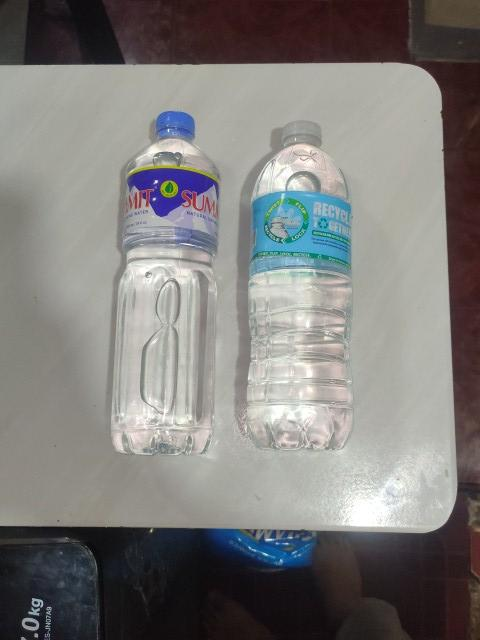Bottled Water: (105, 96, 229, 467), (239, 113, 359, 458)
